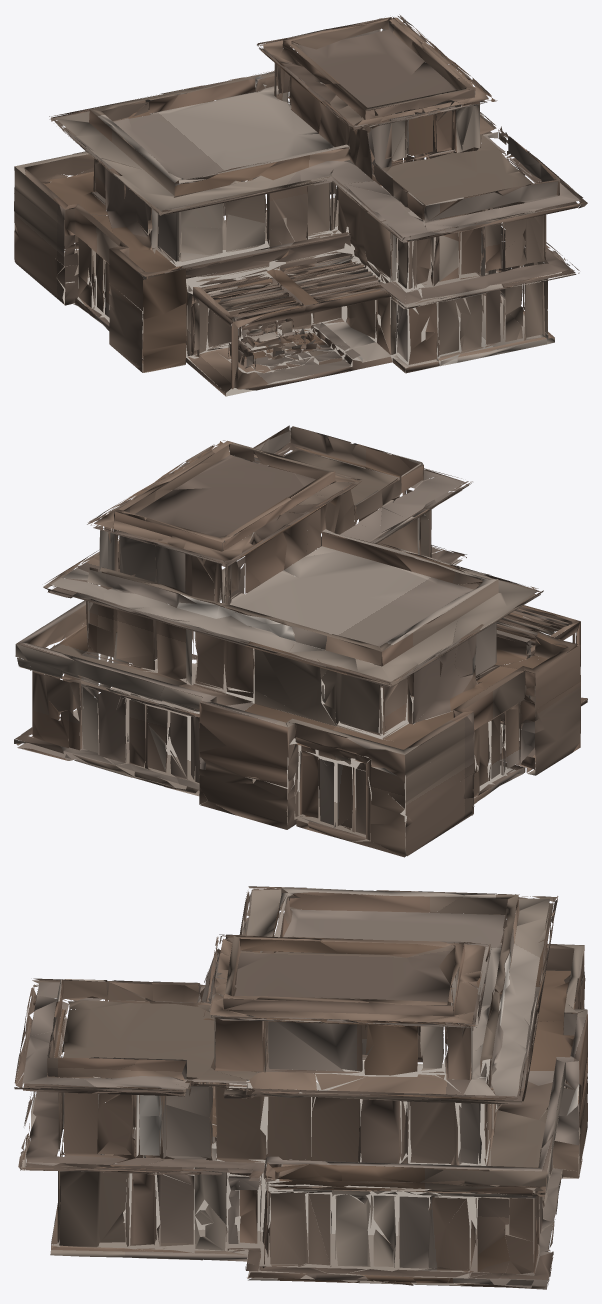
Rendered from villa.glb.
The picture shows the model from 3 angles, top to bottom: view 1: azimuth 30°, elevation 25°; view 2: azimuth 150°, elevation 25°; view 3: azimuth 270°, elevation 25°; orthographic projection. The views are drawn at different scales.
Visible parts, largest first — view 1: LO.001; view 2: LO.001; view 3: LO.001.
Part boxes in pixels (x1,y1,x2,y2): LO.001: (14,14,587,396); LO.001: (14,425,587,857); LO.001: (14,886,587,1289).
Bounding box in the file's own units: 1.9 × 0.9316 × 1.91.
Materials: 1 (1 with a texture image).
